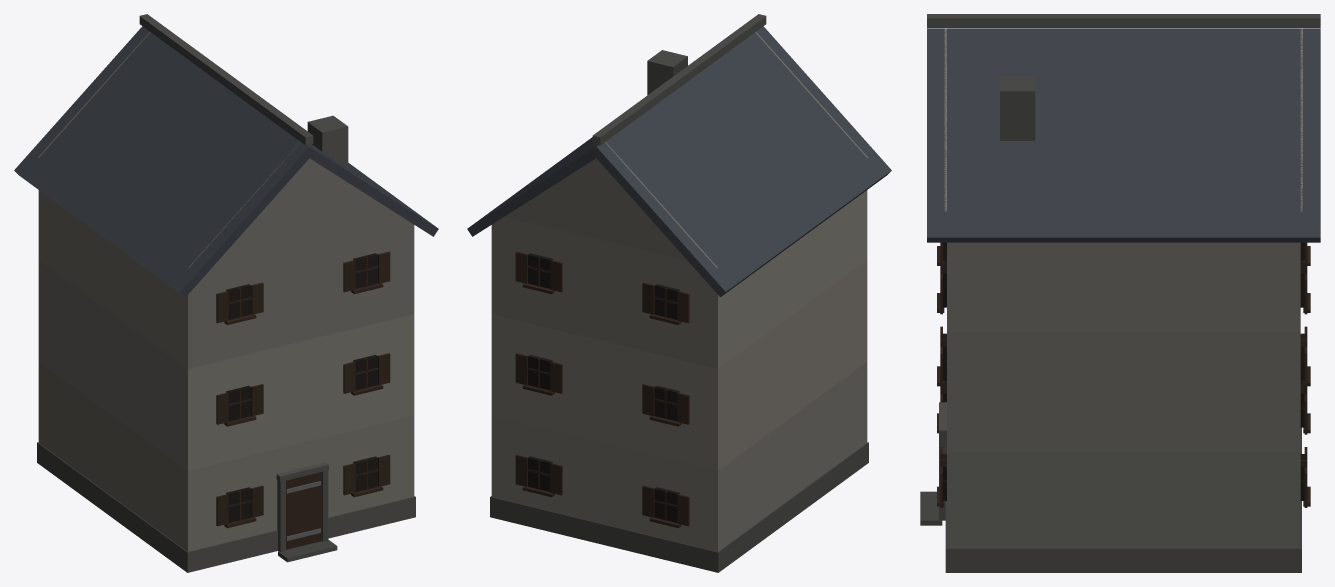
The model's file is walk_freehold_tall.glb.
The picture shows the model from 3 angles, left to right: view 1: azimuth 30°, elevation 25°; view 2: azimuth 150°, elevation 25°; view 3: azimuth 270°, elevation 25°; orthographic projection. The views are drawn at different scales.
Parts seen in each view (by area): view 1: walk_freehold_tall, walk_freehold_tall_roof; view 2: walk_freehold_tall, walk_freehold_tall_roof; view 3: walk_freehold_tall, walk_freehold_tall_roof.
Boxes of the visible parts, bbox=[...] form: walk_freehold_tall: bbox=[37, 190, 415, 572]; walk_freehold_tall_roof: bbox=[14, 14, 438, 297]; walk_freehold_tall: bbox=[490, 190, 868, 572]; walk_freehold_tall_roof: bbox=[467, 14, 891, 297]; walk_freehold_tall: bbox=[920, 242, 1310, 572]; walk_freehold_tall_roof: bbox=[927, 14, 1320, 242].
Size of what is drawn, in the model's own units: 8 by 12.34 by 9.05.
2 materials, 2 textured.
